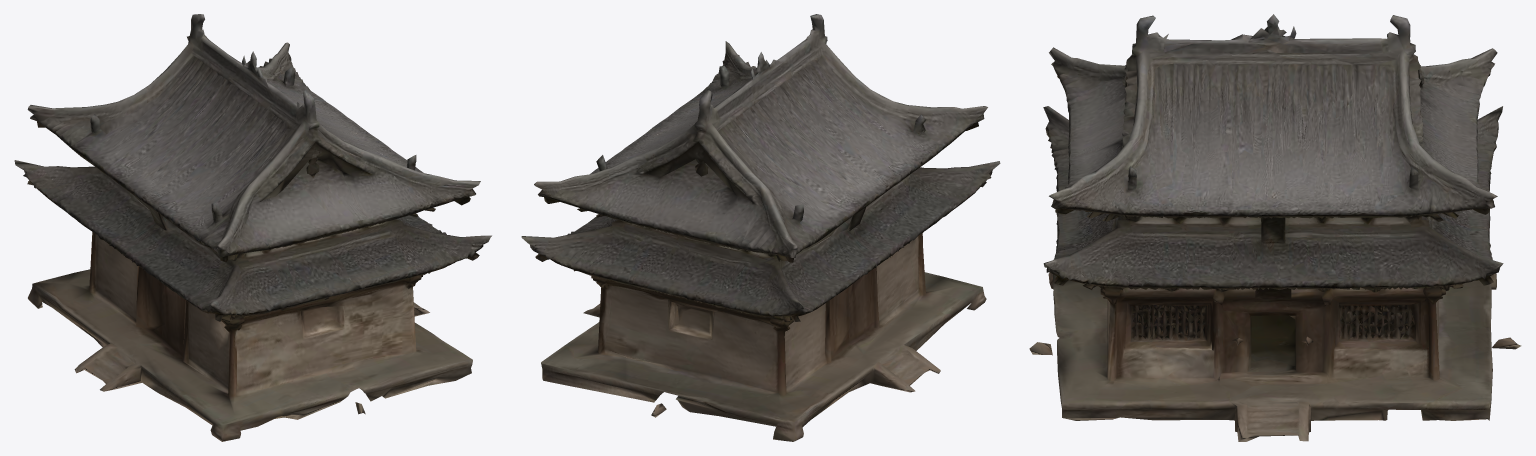
Rendered from building-tiantaian.glb.
3 renders of one model, left to right at view 1: azimuth 30°, elevation 25°; view 2: azimuth 150°, elevation 25°; view 3: azimuth 270°, elevation 25°, orthographic. The views are drawn at different scales.
Parts seen in each view (by area): view 1: node_c91170ff-d13d-4373-a073-2601ef57b2c3; view 2: node_c91170ff-d13d-4373-a073-2601ef57b2c3; view 3: node_c91170ff-d13d-4373-a073-2601ef57b2c3.
Part boxes in pixels (left/top/right/bottom): node_c91170ff-d13d-4373-a073-2601ef57b2c3: left=14, top=14, right=491, bottom=441; node_c91170ff-d13d-4373-a073-2601ef57b2c3: left=521, top=14, right=1000, bottom=441; node_c91170ff-d13d-4373-a073-2601ef57b2c3: left=1029, top=14, right=1521, bottom=441.
Size of the model in its own units: 0.8921 by 0.755 by 1.
Materials: 1 (1 with a texture image).
